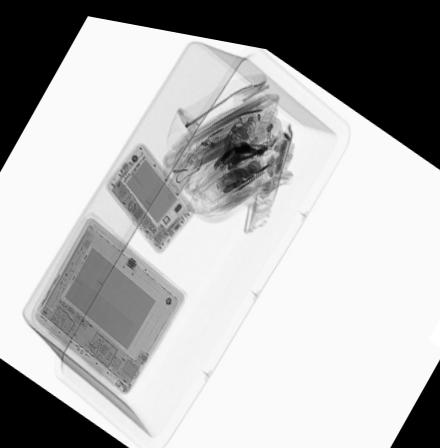Lighter: (196, 113, 228, 142)
